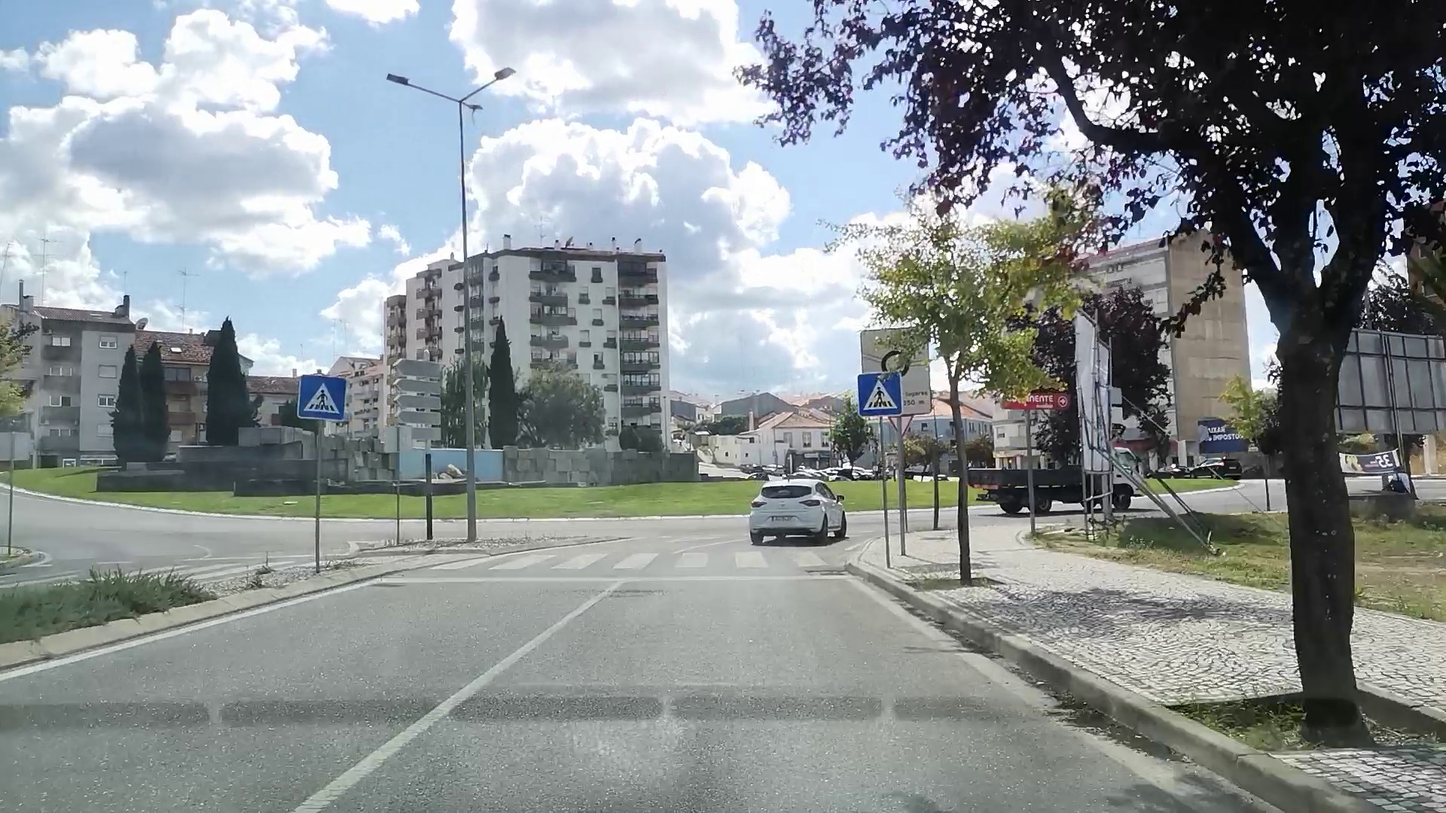Stairs: (422, 542, 833, 576), (841, 538, 842, 555)
